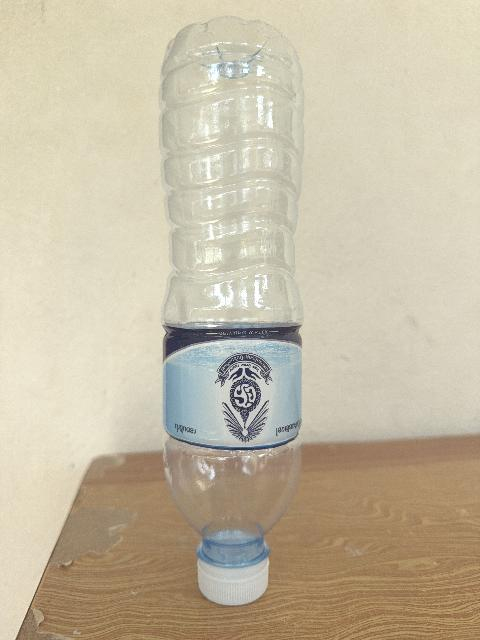bottle: (160, 17, 302, 604)
